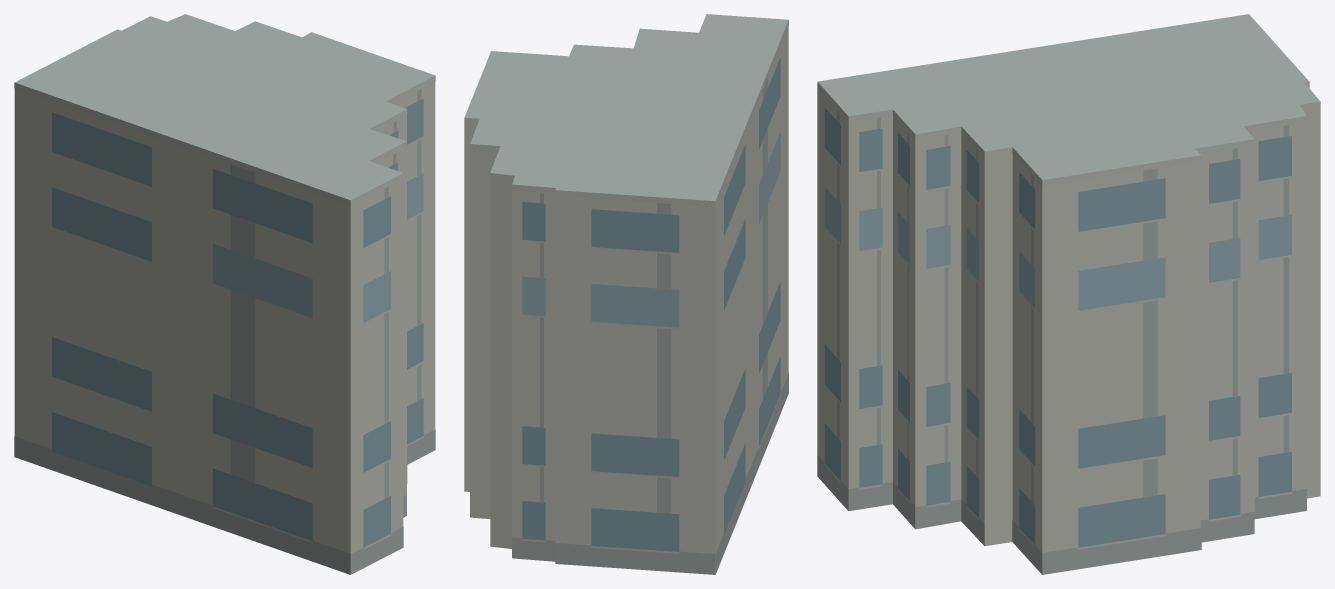
File: survey-upis-32765392.glb
The picture shows the model from 3 angles, left to right: view 1: azimuth 30°, elevation 25°; view 2: azimuth 150°, elevation 25°; view 3: azimuth 270°, elevation 25°; orthographic projection. The views are drawn at different scales.
Parts seen in each view (by area): view 1: survey-upis-32765392.tmp; view 2: survey-upis-32765392.tmp; view 3: survey-upis-32765392.tmp.
Boxes of the visible parts, <box> form: survey-upis-32765392.tmp: <box>14,14,435,574</box>; survey-upis-32765392.tmp: <box>464,14,788,574</box>; survey-upis-32765392.tmp: <box>817,14,1320,574</box>.
Size of the model in its own units: 14.08 by 15.6 by 18.02.
